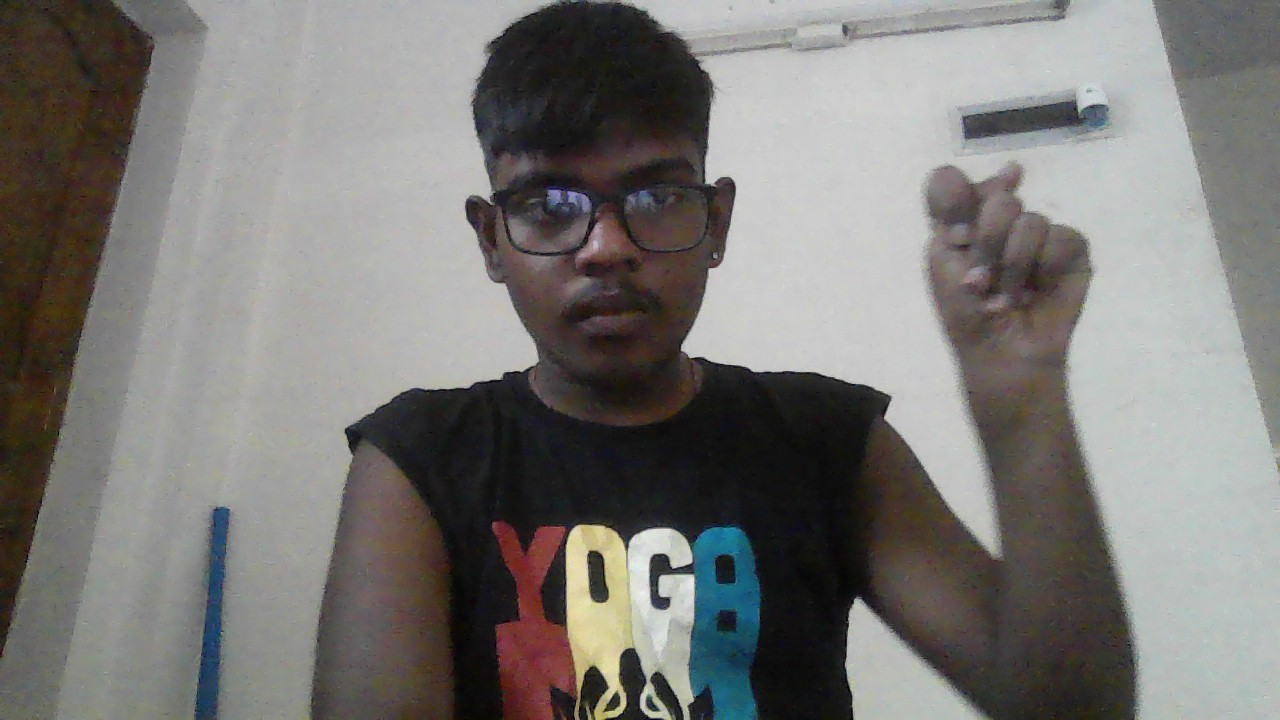T: (922, 159, 1090, 391)
